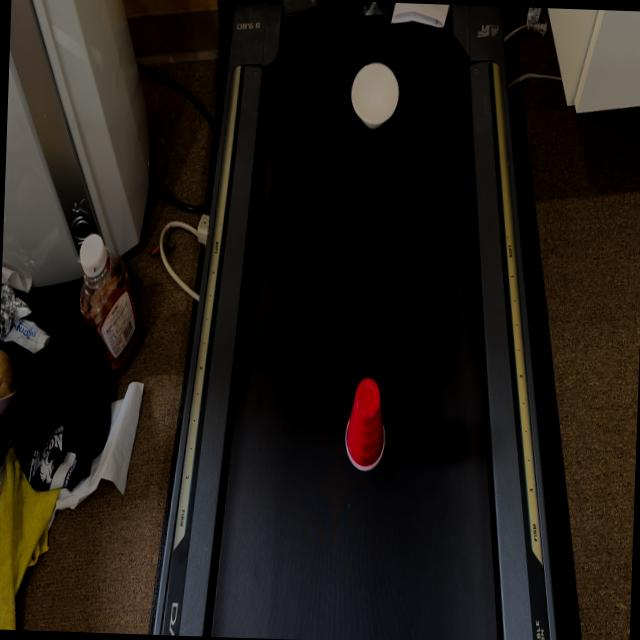Recycle: (339, 373, 392, 479), (342, 52, 402, 134)
